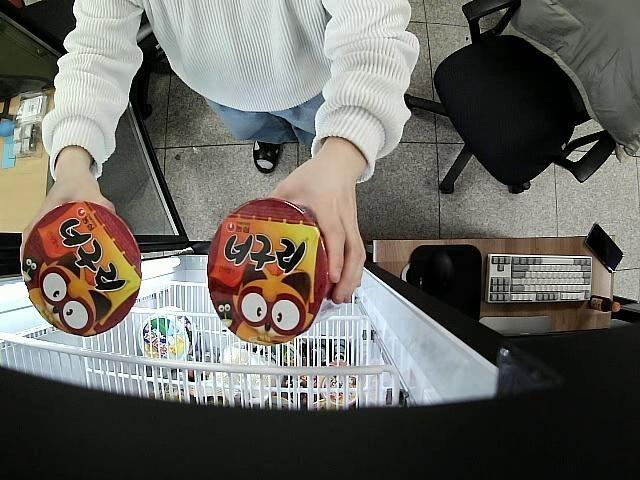05_nuguri_L: (208, 198, 352, 345), (22, 202, 142, 337)
